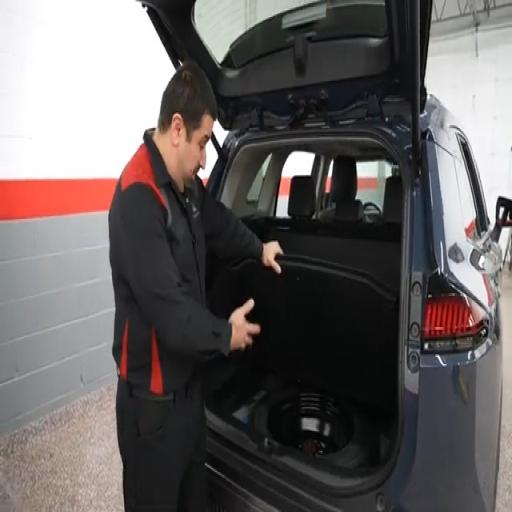bumper: (208, 343, 502, 511)
hood: (138, 0, 431, 129)
side_mirror: (492, 197, 511, 241)
taillight: (423, 291, 488, 352)
trunk: (204, 225, 400, 475)
window: (246, 151, 315, 217), (454, 130, 488, 241), (356, 160, 397, 211)
windshield: (193, 0, 387, 68)
